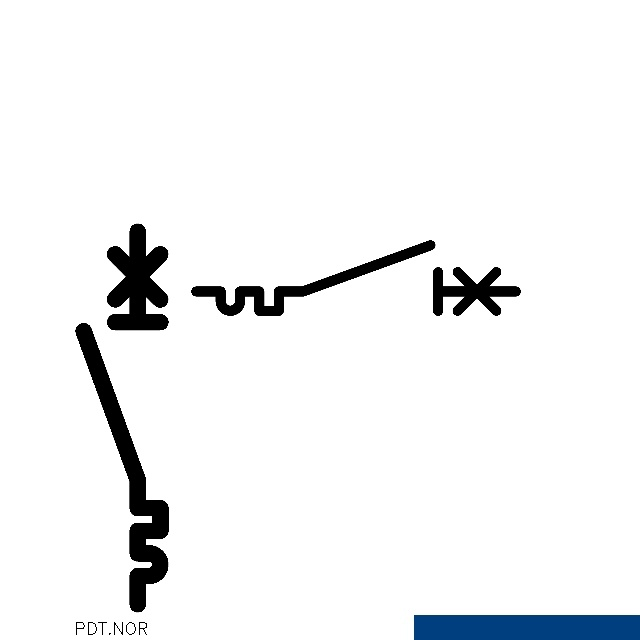interruptor_termomagnetico: (74, 222, 170, 614), (188, 237, 523, 319)
